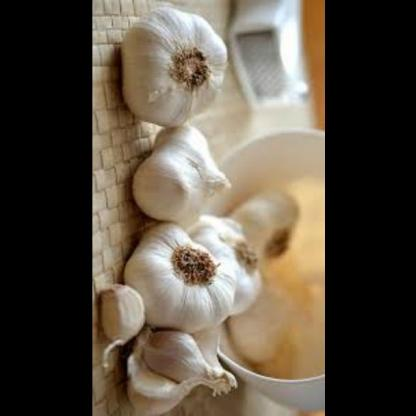garlic: (115, 5, 231, 130), (123, 222, 245, 336), (125, 126, 238, 234), (118, 324, 236, 416), (192, 221, 268, 326), (222, 285, 298, 366), (229, 186, 303, 267), (102, 278, 151, 350)
